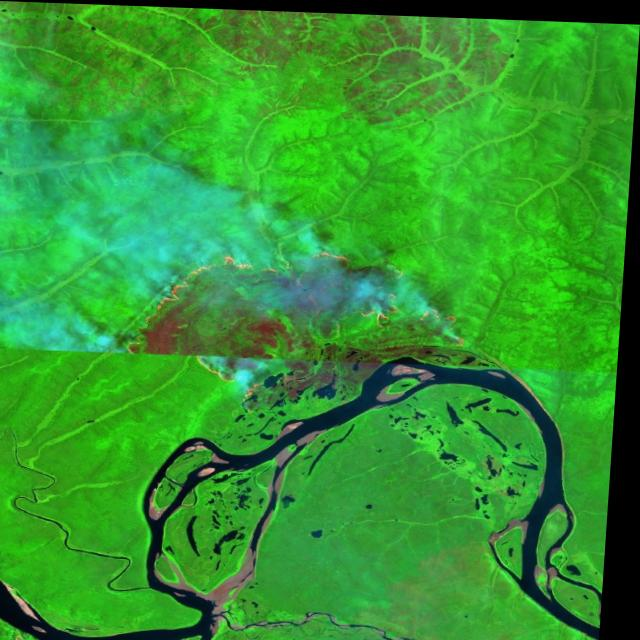fire: (119, 241, 476, 388)
